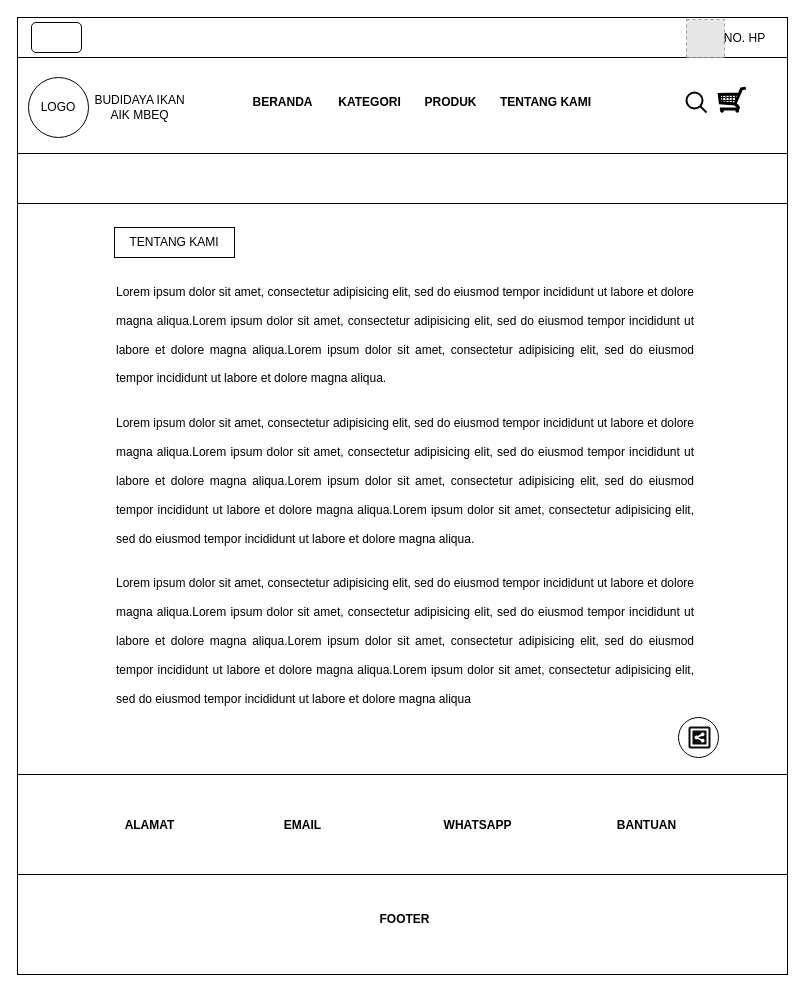
The diagram is 805 pixels wide and 992 high, and some of its shapes have lost their labels. Grey dashed boxes stand in for pictures. The shapes that lost their labels are listed below. From the top down, each one's centre as x and y in pixels, then its label:
At (x=56, y=37): "INFO".
At (x=402, y=178): "HOME/TENTANG KAMI".
